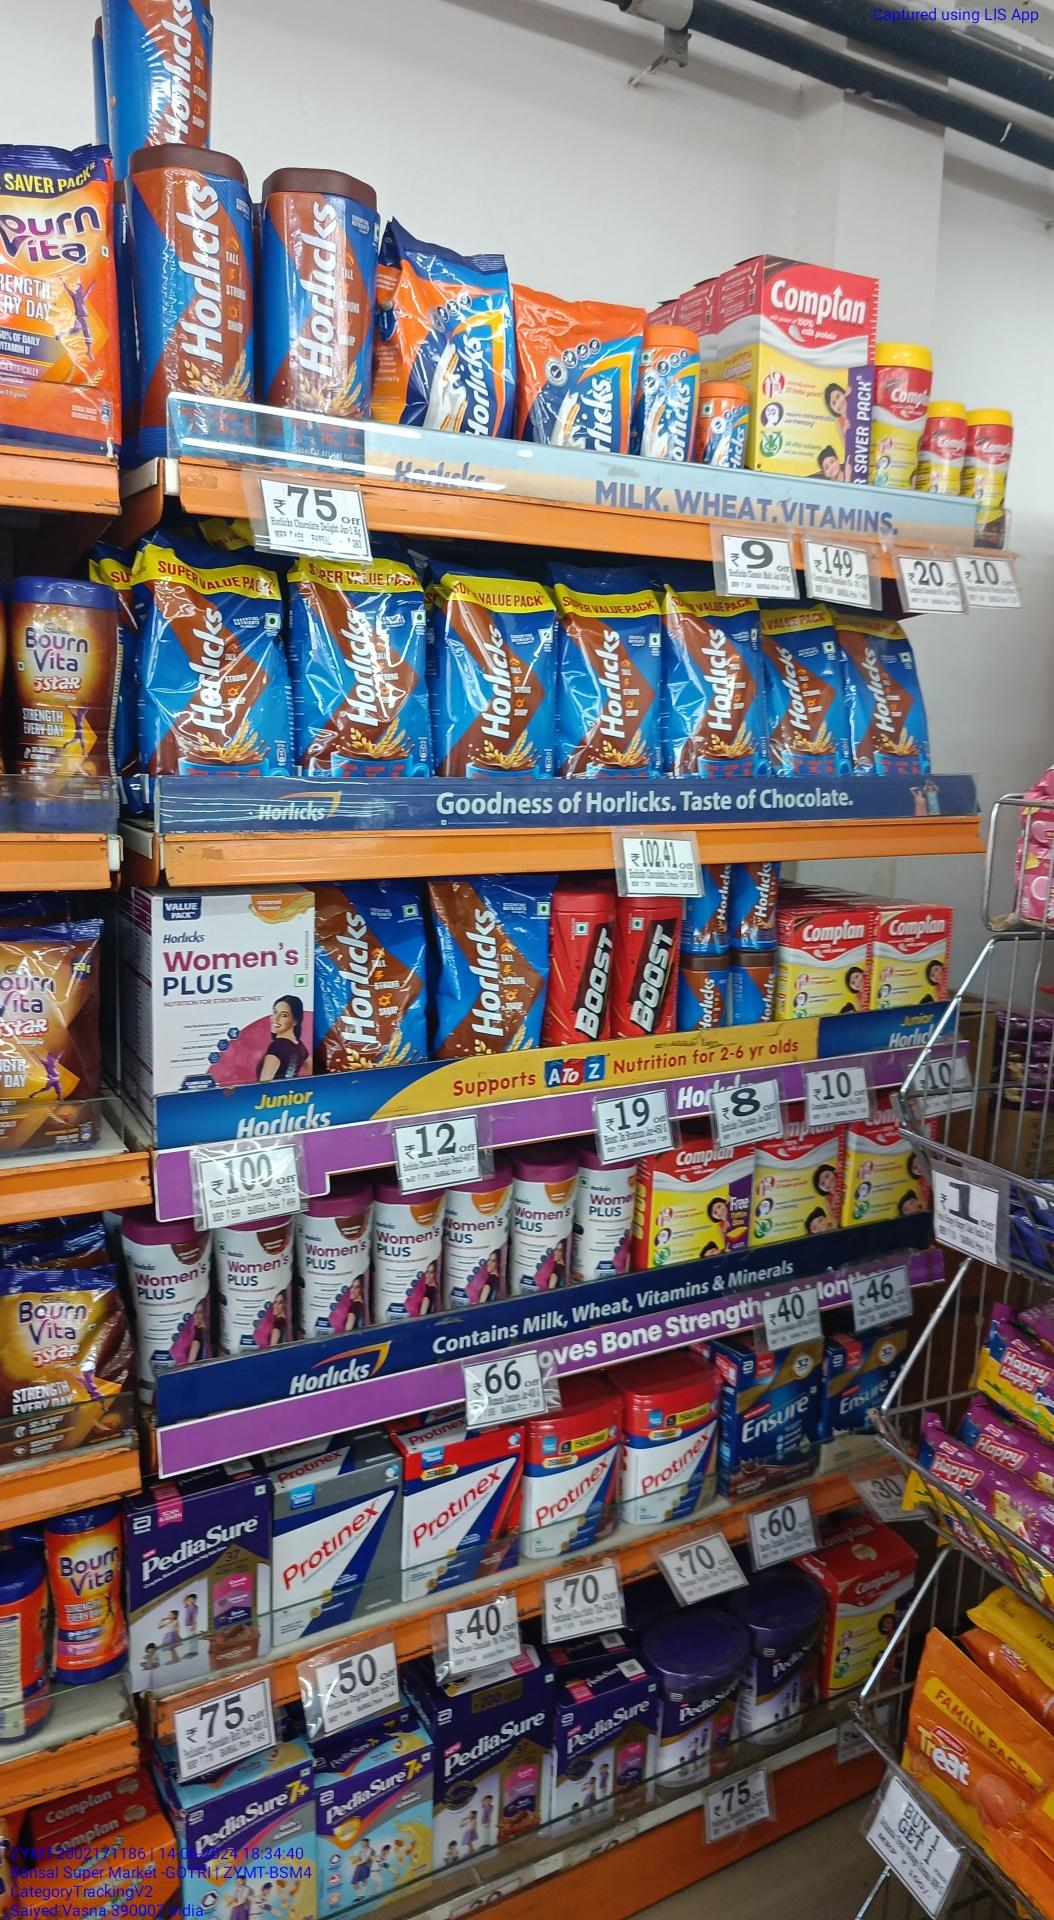BOURN_VITA_500_G_JAR: (51, 1509, 132, 1684)
BOURN_VITA_FIVE_STAR_MAGIC_500_G_POUCH: (3, 1271, 130, 1449)
COMPLAN_CHOCOLATE_1_KG_PACK: (755, 257, 876, 483)
COMPLAN_CHOCOLATE_500_GMS_PACK: (790, 916, 870, 1016)
COMPLAN_CREAMY_CLASSIC_500_G_PACK: (874, 911, 950, 1004)
HORLICK_CHOCOLATE_500_G_JAR: (140, 141, 260, 396), (267, 163, 380, 415)
HORLICK_CHOCOLATE_750_G_POUCH: (145, 531, 295, 777), (299, 551, 424, 773), (439, 564, 556, 774), (565, 571, 661, 771), (667, 588, 765, 774), (770, 601, 844, 776), (849, 611, 929, 769)
HORLICK_CLASSIC_MALT_200_G_JAR: (706, 384, 754, 470)
HORLICK_CLASSIC_MALT_500_G_JAR: (640, 319, 705, 462)
HORLICK_CLASSIC_MALT_750_G_POUCH: (384, 213, 517, 441), (519, 285, 635, 445)
PROTINEX_CHOCOLATE_400_G_JAR: (530, 1413, 626, 1559)
PROTINEX_VANILLA_400_G_JAR: (631, 1389, 719, 1528)
